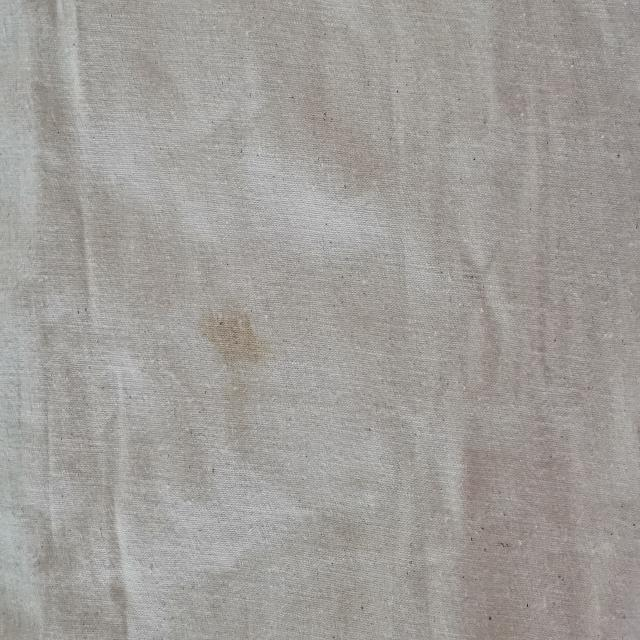taaaches: (200, 292, 264, 374)
